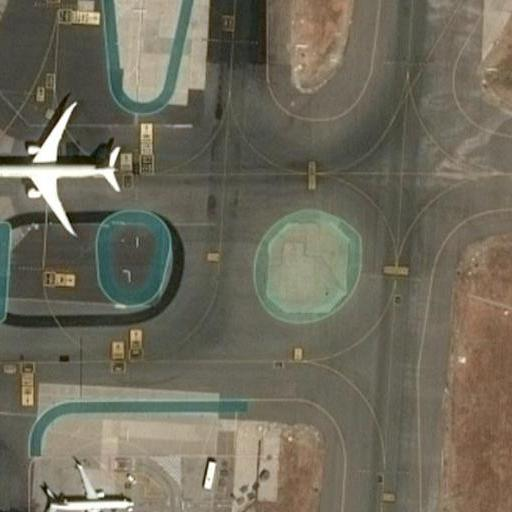Aircraft: (0, 97, 119, 236)
